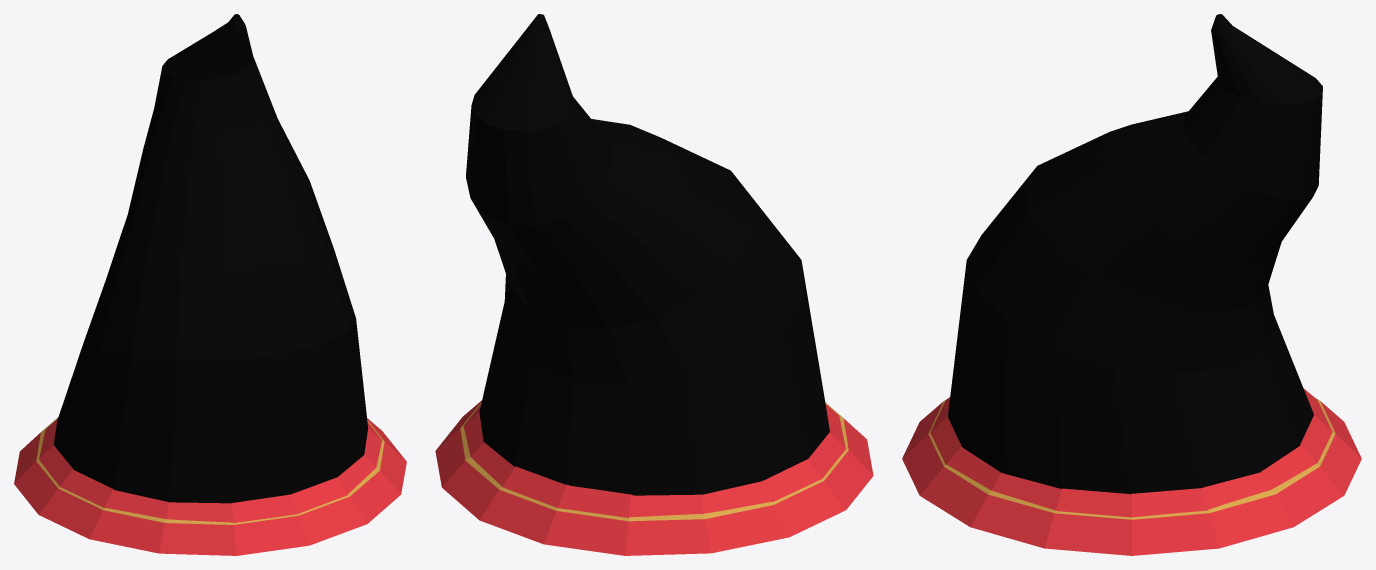
The model's file is hat.fbx.
The picture shows the model from 3 angles, left to right: view 1: azimuth 30°, elevation 25°; view 2: azimuth 150°, elevation 25°; view 3: azimuth 270°, elevation 25°; orthographic projection. The views are drawn at different scales.
Parts seen in each view (by area): view 1: Plane; view 2: Plane; view 3: Plane.
Boxes of the visible parts, left/top/right/bottom form: Plane: left=14, top=14, right=406, bottom=555; Plane: left=435, top=14, right=873, bottom=555; Plane: left=902, top=14, right=1361, bottom=555.
Size of what is drawn, in the model's own units: 234 by 270 by 234.
